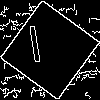I: (25, 25, 46, 72)
